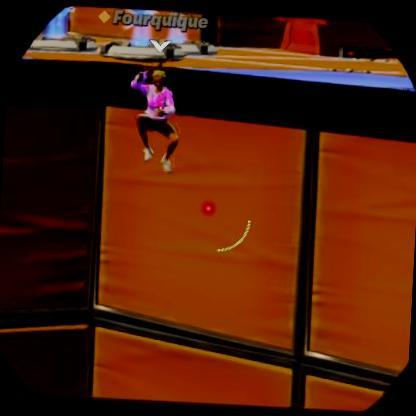person: (126, 65, 183, 173)
